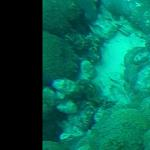alive: (44, 1, 148, 149)
